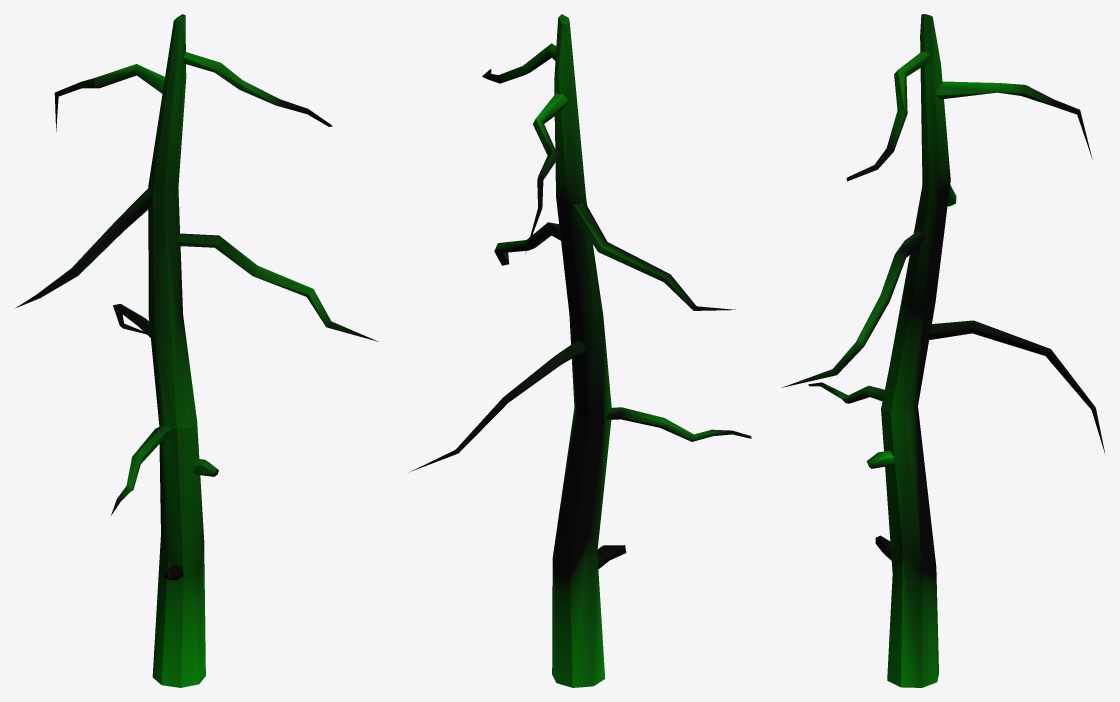
The model's file is SM_Collision_PineSnowCover02.fbx.
The picture shows the model from 3 angles, left to right: view 1: azimuth 30°, elevation 25°; view 2: azimuth 150°, elevation 25°; view 3: azimuth 270°, elevation 25°; orthographic projection. The views are drawn at different scales.
Visible parts, largest first — view 1: SM_Collision_PineSnowCover02; view 2: SM_Collision_PineSnowCover02; view 3: SM_Collision_PineSnowCover02.
Boxes of the visible parts, box(x1,y1,x2,y2) form: SM_Collision_PineSnowCover02: box(15, 14, 378, 687); SM_Collision_PineSnowCover02: box(410, 14, 751, 687); SM_Collision_PineSnowCover02: box(781, 14, 1104, 687).
Size of the model in its own units: 564 by 1191 by 525.
